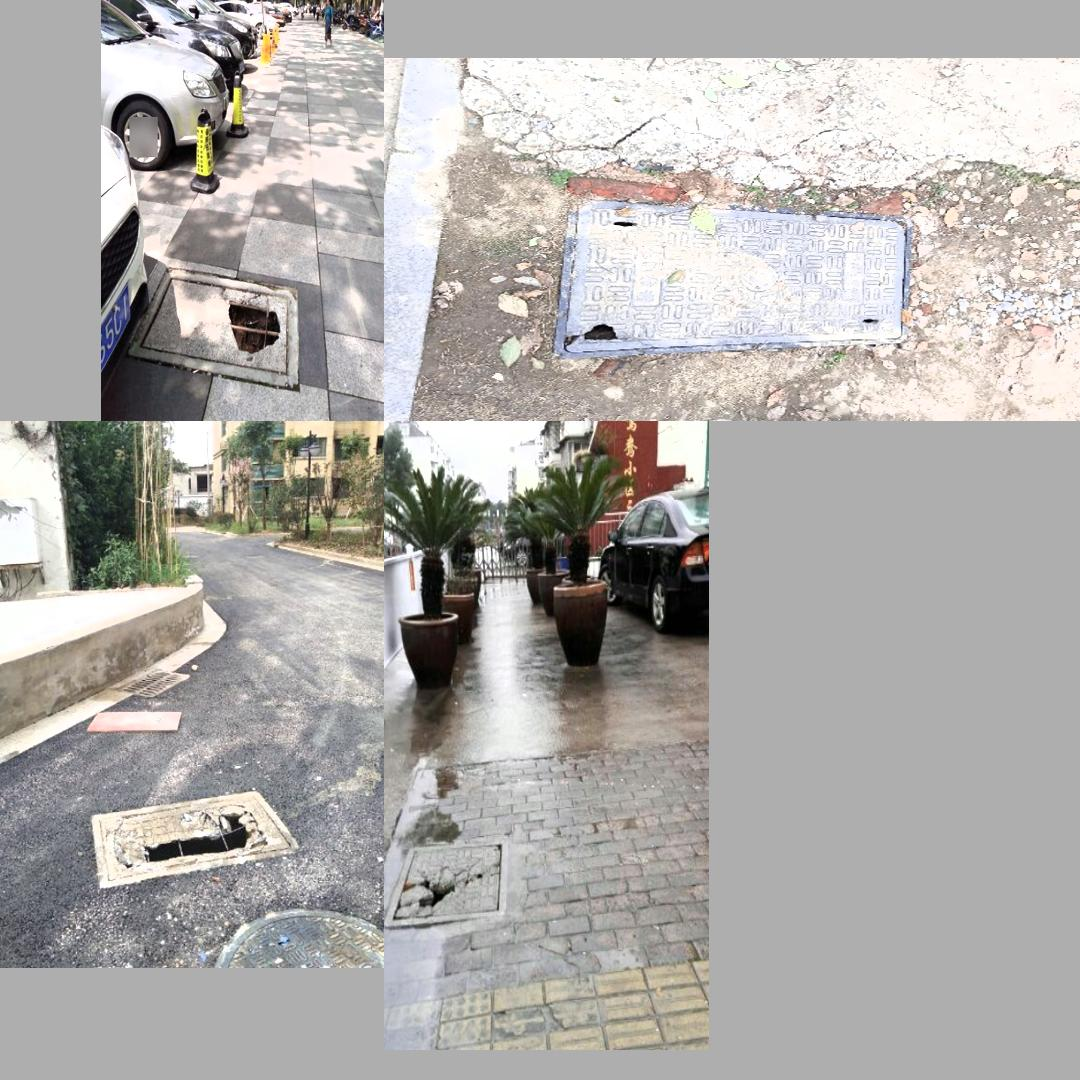broke: (551, 199, 912, 357), (127, 267, 298, 389), (90, 789, 298, 888), (386, 839, 506, 929)
good: (212, 910, 384, 966)
